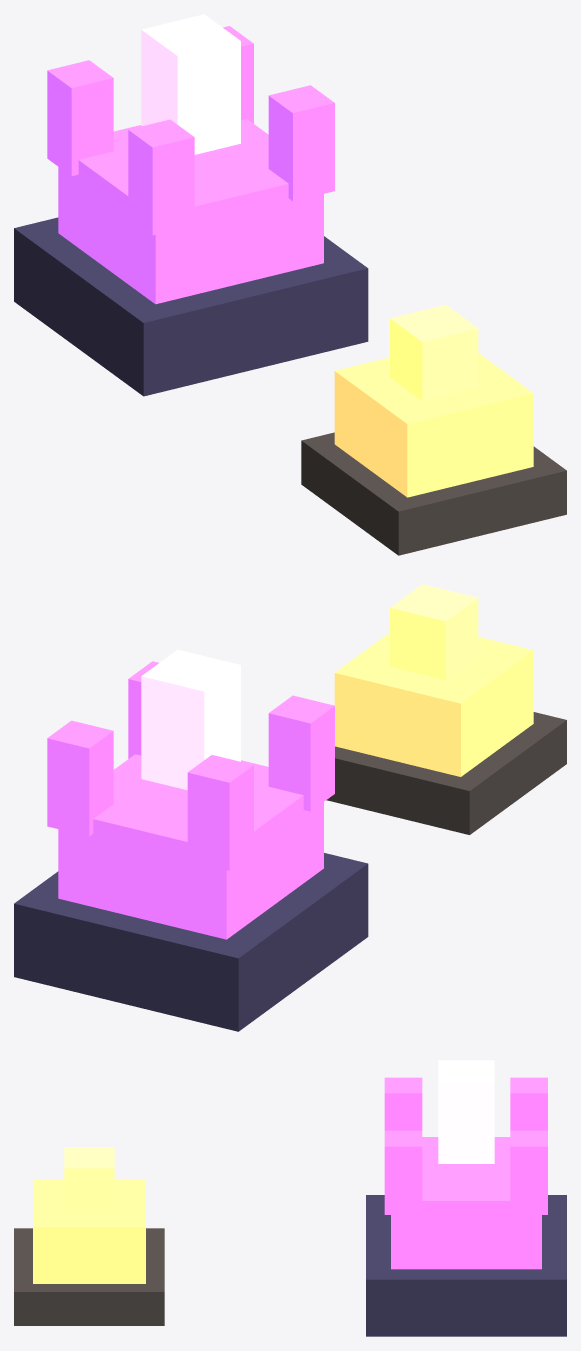
Rendered from model_fortress.glb.
3 renders of one model, top to bottom at view 1: azimuth 30°, elevation 25°; view 2: azimuth 150°, elevation 25°; view 3: azimuth 270°, elevation 25°, orthographic. The views are drawn at different scales.
Parts seen in each view (by area): view 1: Cloud_Base, Cloud_Keep, SLM_Forge, SLM_Base, PortalCrystal, SLM_Core, Tower_-1_2, Tower_1_2, Tower_-1_4, Tower_1_4; view 2: Cloud_Base, Cloud_Keep, SLM_Forge, SLM_Base, PortalCrystal, SLM_Core, Tower_-1_4, Tower_1_4, Tower_-1_2, Tower_1_2; view 3: Cloud_Base, Cloud_Keep, SLM_Forge, SLM_Base, PortalCrystal, SLM_Core, Tower_1_2, Tower_1_4, Tower_-1_2, Tower_-1_4.
Boxes of the visible parts, x1,y1,x2,y2 form: Cloud_Base: (14,217,368,396); Cloud_Keep: (58,119,323,304); SLM_Forge: (334,353,533,497); SLM_Base: (301,432,566,555); PortalCrystal: (141,14,240,154); SLM_Core: (390,304,478,400); Tower_-1_2: (128,119,194,235); Tower_1_2: (268,85,334,201); Tower_-1_4: (47,60,113,176); Tower_1_4: (223,26,253,123); Cloud_Base: (14,853,368,1031); Cloud_Keep: (58,754,323,939); SLM_Forge: (334,632,533,776); SLM_Base: (326,712,566,834); PortalCrystal: (141,649,240,790); SLM_Core: (390,584,478,680); Tower_-1_4: (187,755,253,870); Tower_1_4: (47,720,113,836); Tower_-1_2: (268,695,334,811); Tower_1_2: (128,661,158,758); Cloud_Base: (366,1195,566,1336); Cloud_Keep: (391,1137,541,1269); SLM_Forge: (33,1179,145,1283); SLM_Base: (14,1228,164,1325); PortalCrystal: (438,1060,494,1163); SLM_Core: (64,1147,114,1213); Tower_1_2: (384,1130,422,1214); Tower_1_4: (510,1130,547,1214); Tower_-1_2: (384,1077,422,1130); Tower_-1_4: (510,1077,547,1130).
Size of the model in its own units: 3.2 by 3.9 by 8.8.
